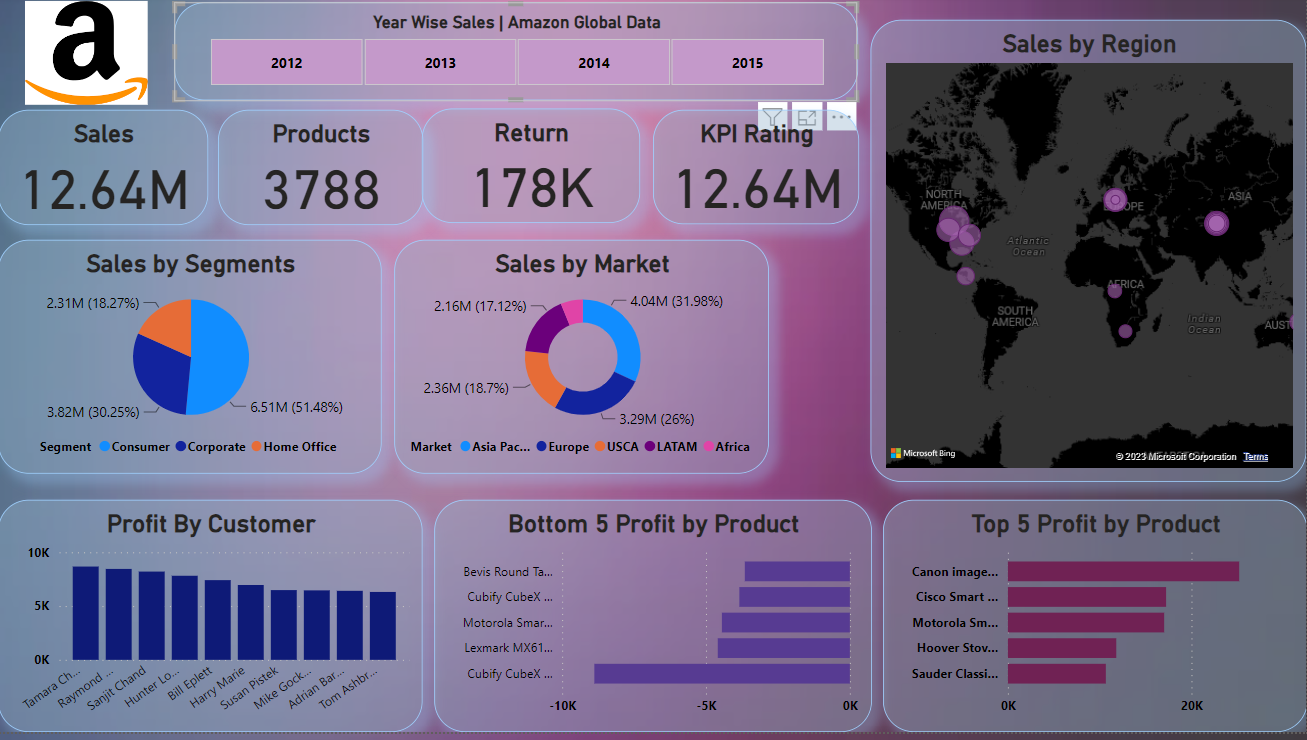

This screenshot's page, from the dashboard's own definition file:
{"tool":"powerbi","page":{"name":"Page 1","canvas":[1280,720],"ordinal":0},"visuals":[{"type":"slicer","title":"Year Wise Sales | Amazon Global Data","fields":{"Values":["Orders.Year"]},"box":[172.5,6.2,668.8,96.2],"z":0},{"type":"card","title":"Sales","fields":{"Values":["Orders.Sales"]},"box":[0,111.2,205.4,112.5],"z":1000},{"type":"image","box":[0,0,172.5,111.2],"z":2000},{"type":"card","title":"Return","fields":{"Values":["Orders.Quantity"]},"box":[415,110,213.3,111.7],"z":3000},{"type":"card","title":"KPI Rating","fields":{"Values":["Orders.Sales"]},"box":[640,111.7,201.7,111.7],"z":4000},{"type":"card","title":"Products","fields":{"Values":["Orders.Product Name"]},"box":[215.1,111.2,200.5,112.5],"z":5000},{"type":"pieChart","title":"Sales by Segments","fields":{"Y":["Orders.Sales"],"Category":["Orders.Segment"]},"box":[0,238.4,375.3,228.6],"z":6000},{"type":"donutChart","title":"Sales by Market","fields":{"Y":["Orders.Sales"],"Category":["Orders.Market"]},"box":[387.5,238.4,366.7,228.6],"z":7000},{"type":"columnChart","title":"Profit By Customer","fields":{"Y":["Orders.Profit"],"Category":["Orders.Customer Name"]},"box":[0,492.2,415.4,227.6],"z":7001},{"type":"clusteredBarChart","title":"Bottom 5 Profit by Product","fields":{"Y":["Orders.Profit"],"Category":["Orders.Product Name"]},"box":[426.4,492.2,427.8,227.6],"z":7002},{"type":"clusteredBarChart","title":"Top 5 Profit by Product","fields":{"Y":["Orders.Profit"],"Category":["Orders.Product Name"]},"box":[865.1,492.2,415.4,227.6],"z":7003},{"type":"map","title":"Sales by Region","fields":{"Category":["Orders.Region"],"Size":["Orders.Sales"]},"box":[853.3,23.3,426.7,451.7],"z":7004}]}

Visuals, with their boxes in screenshot pixels (x1, y1, x2, y2), scaled from the page's 1280x720 canvas onto the 1307x740 screenshot:
"Year Wise Sales | Amazon Global Data" slicer: 176 6 859 105
"Sales" card: 0 114 210 230
image: 0 0 176 114
"Return" card: 424 113 642 228
"KPI Rating" card: 654 115 859 230
"Products" card: 220 114 424 230
"Sales by Segments" pieChart: 0 245 383 480
"Sales by Market" donutChart: 396 245 770 480
"Profit By Customer" columnChart: 0 506 424 739
"Bottom 5 Profit by Product" clusteredBarChart: 435 506 872 739
"Top 5 Profit by Product" clusteredBarChart: 883 506 1306 739
"Sales by Region" map: 871 24 1306 488
